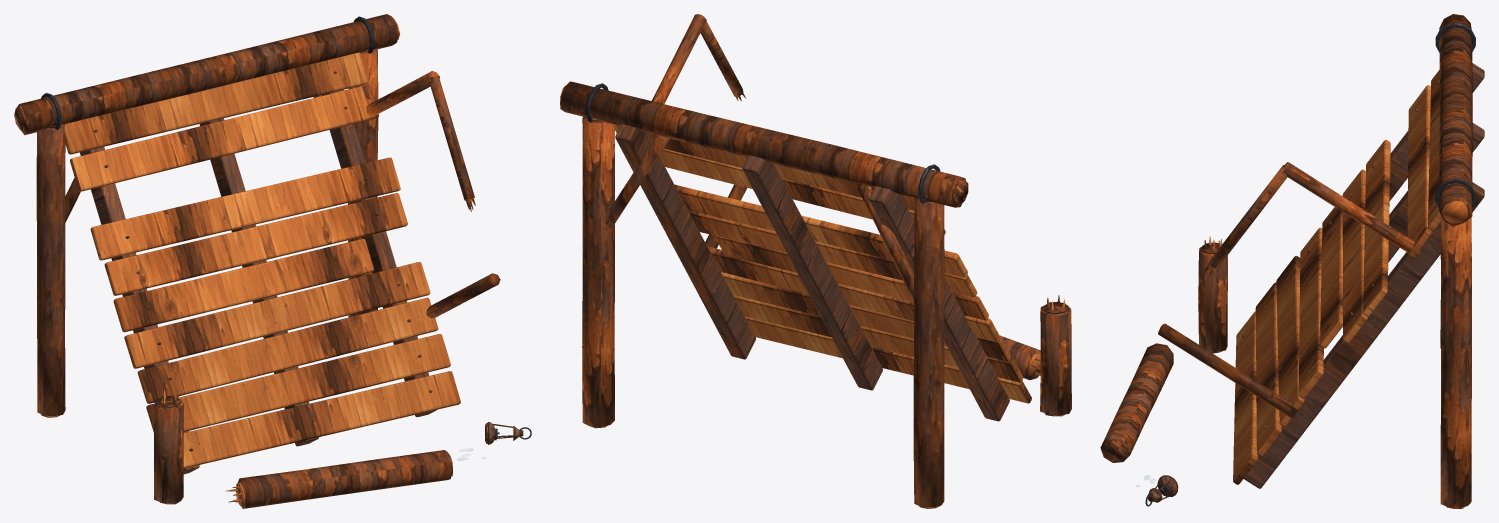
File: lw_collapsed_walkway.glb
The picture shows the model from 3 angles, left to right: view 1: azimuth 30°, elevation 25°; view 2: azimuth 150°, elevation 25°; view 3: azimuth 270°, elevation 25°; orthographic projection. The views are drawn at different scales.
Parts seen in each view (by area): view 1: model; view 2: model; view 3: model.
Part boxes in pixels (bbox=[...]): model: bbox=[14, 14, 531, 508]; model: bbox=[560, 14, 1071, 508]; model: bbox=[1100, 14, 1484, 508].
Size of the model in its own units: 2.02 by 1.71 by 1.77.
23 materials, 14 textured.
